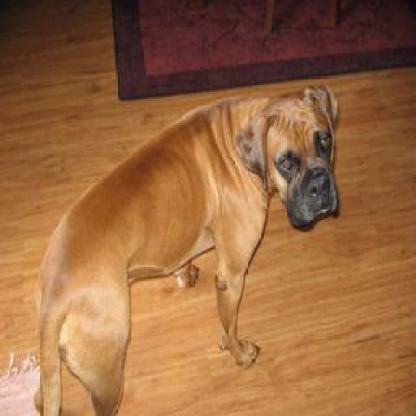boxer: (34, 78, 340, 413)
